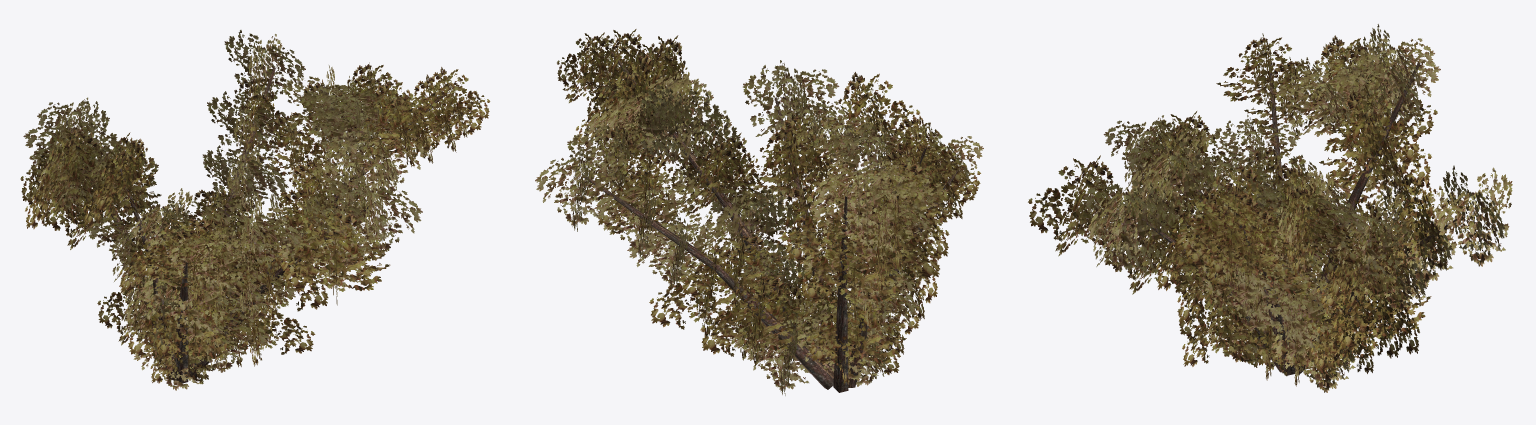
The model's file is bush_3d_05_golden_beige_lod1.glb.
The picture shows the model from 3 angles, left to right: view 1: azimuth 30°, elevation 25°; view 2: azimuth 150°, elevation 25°; view 3: azimuth 270°, elevation 25°; orthographic projection. The views are drawn at different scales.
Visible parts, largest first — view 1: foliage_cards, wood_geometry; view 2: foliage_cards, wood_geometry; view 3: foliage_cards, wood_geometry.
Boxes of the visible parts, x1,y1,x2,y2 form: foliage_cards: [20, 30, 490, 390]; wood_geometry: [64, 67, 443, 383]; foliage_cards: [535, 29, 983, 395]; wood_geometry: [583, 52, 958, 392]; foliage_cards: [1028, 24, 1512, 392]; wood_geometry: [1139, 58, 1462, 375].
Bounding box in the file's own units: 2.79 × 1.71 × 2.5.
2 materials, 2 textured.
